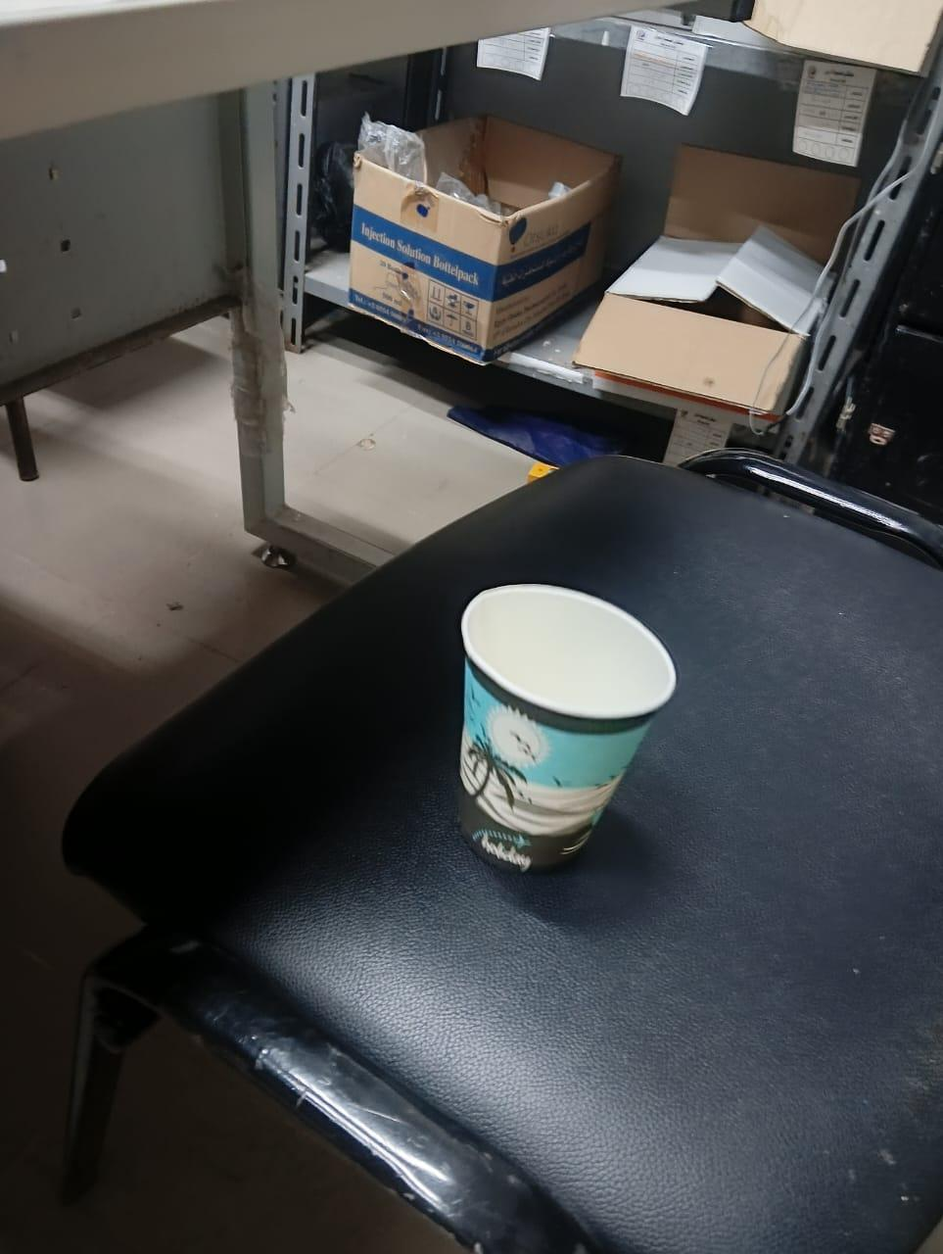cup: (460, 585, 675, 870)
